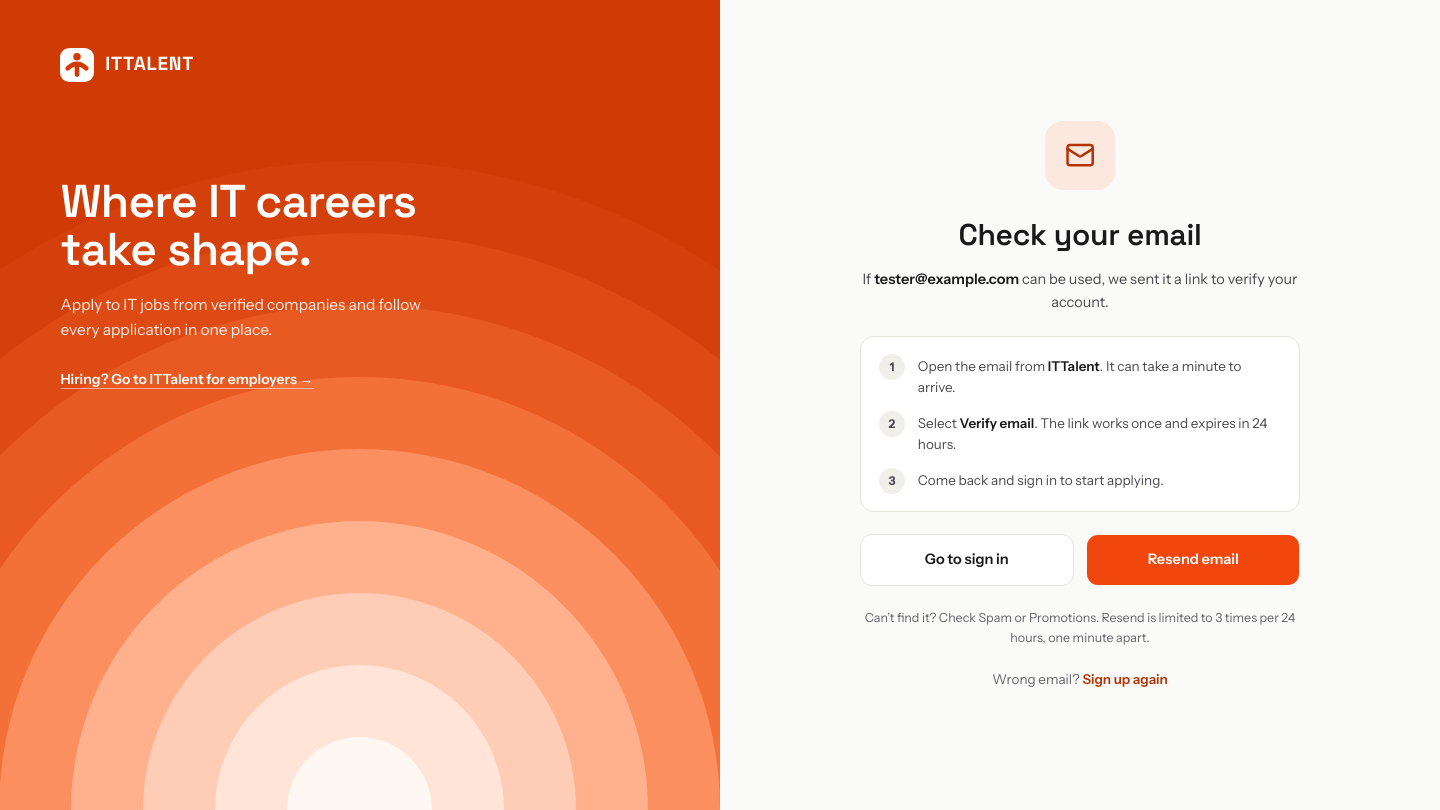
Test: EmailVerificationPage › handles resend verification email for locked email on registration stage
The image size is (1440, 810).
Click the button "Resend email" at (1193, 560), box [1086,534,1300,586]
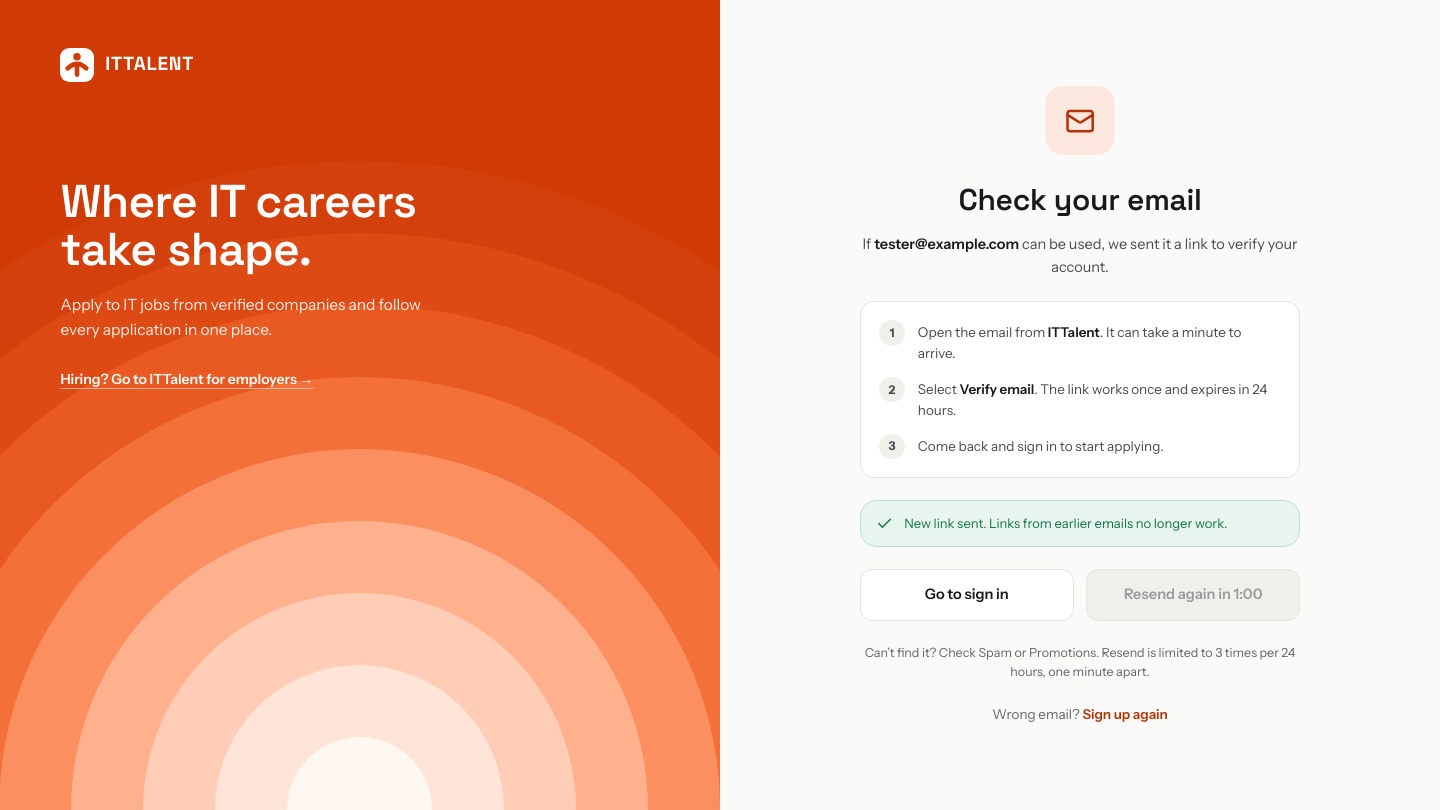
Expected: the text "New link sent. Links from earlier emails no longer work." is shown, [904,514,1284,533]
Expected: the button "Resend again in 1:00" is disabled, [1086,569,1300,621]
